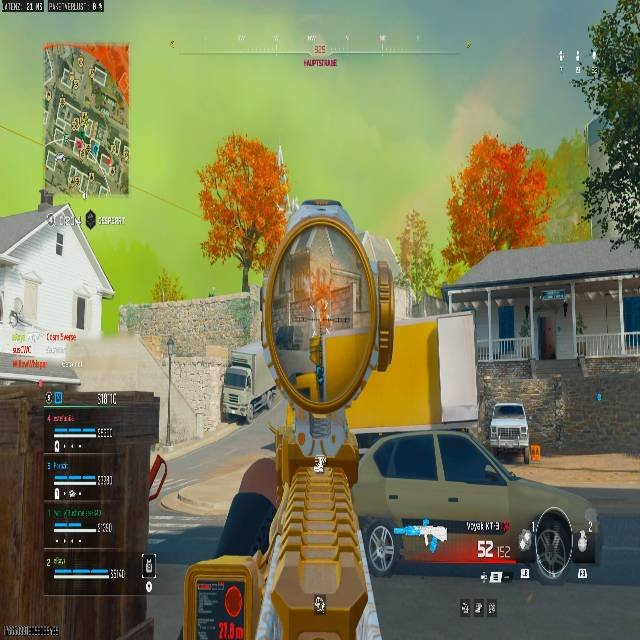player: (208, 287, 216, 297)
